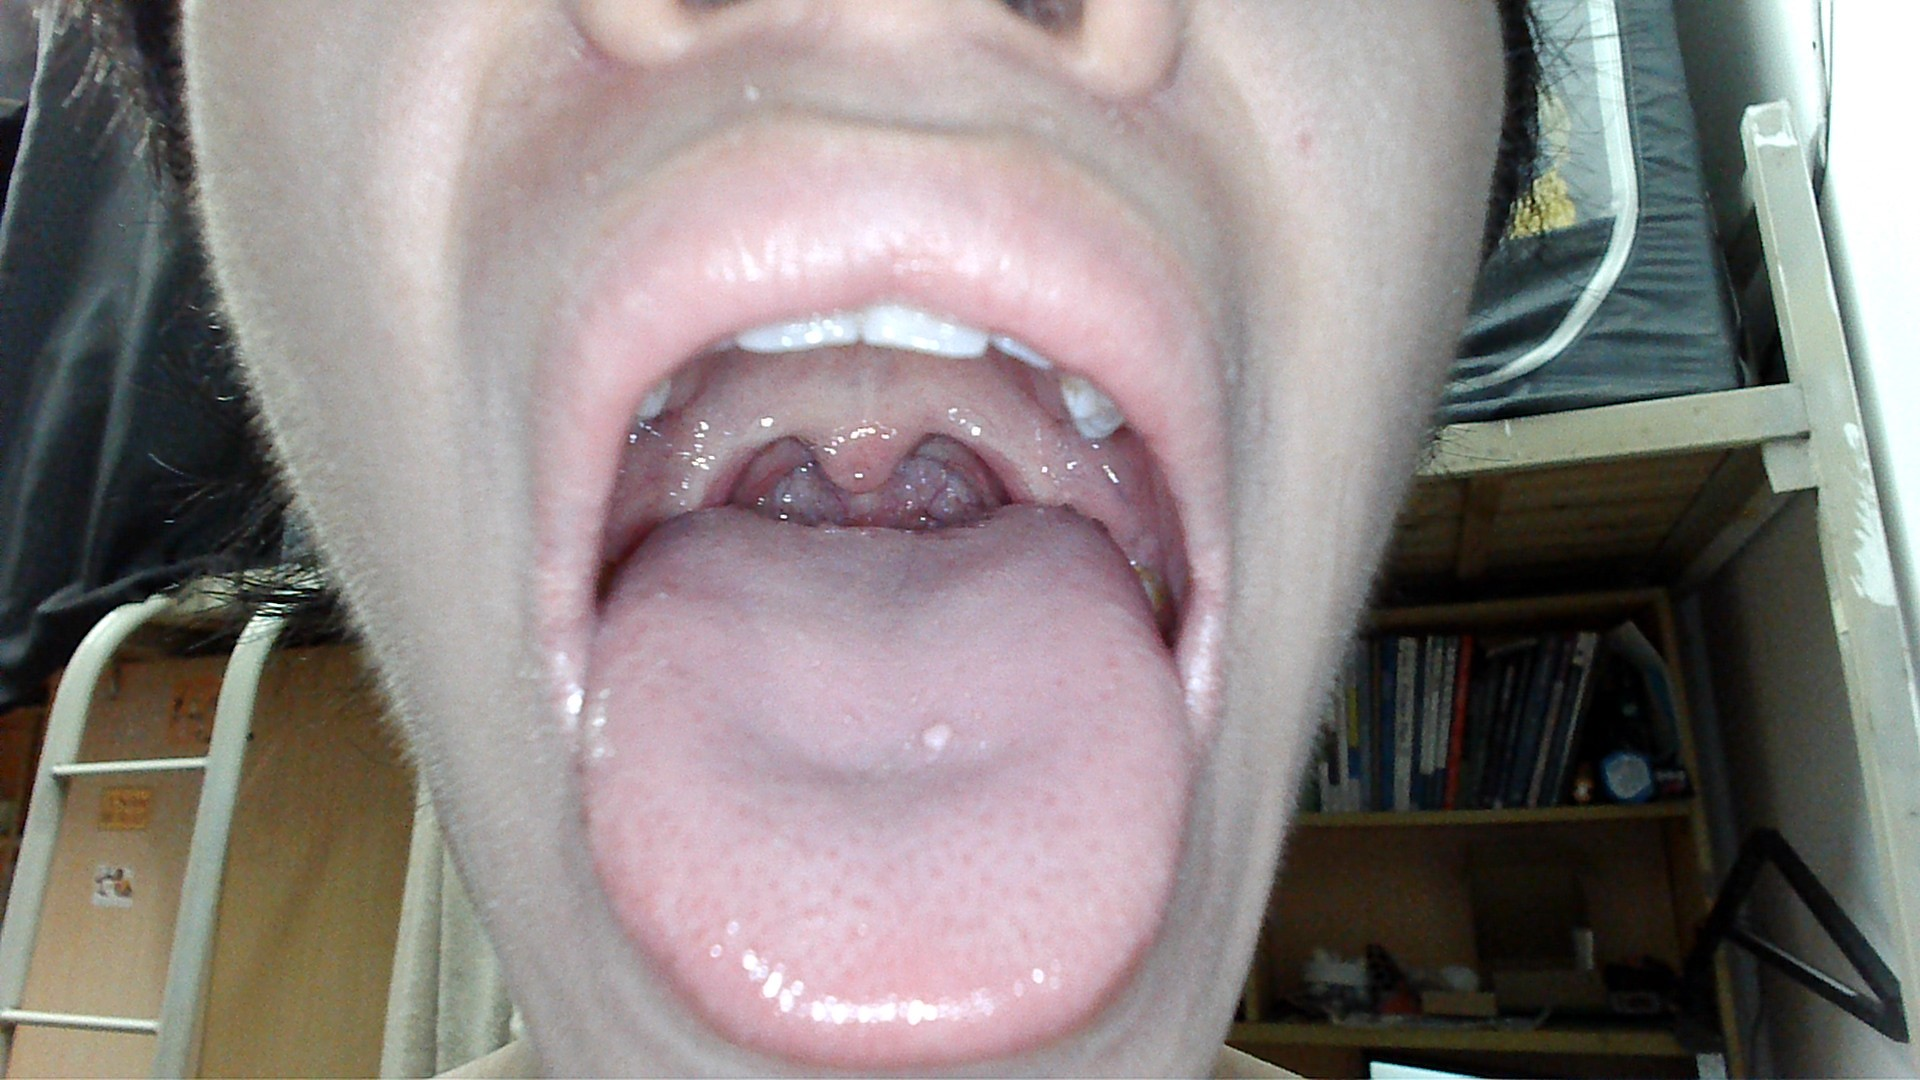throat: (934, 400, 1038, 504), (682, 411, 782, 504)
